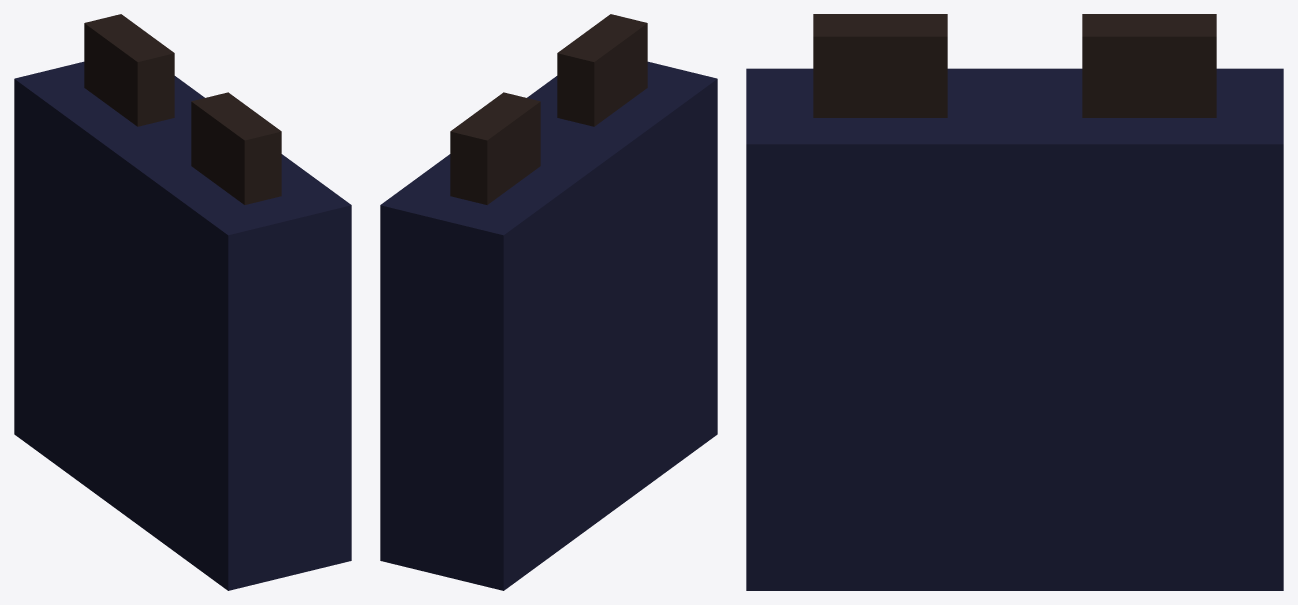
The model's file is listening_station.glb.
3 renders of one model, left to right at view 1: azimuth 30°, elevation 25°; view 2: azimuth 150°, elevation 25°; view 3: azimuth 270°, elevation 25°, orthographic. The views are drawn at different scales.
Visible parts, largest first — view 1: Box1, Box3, Box2; view 2: Box1, Box2, Box3; view 3: Box1, Box2, Box3.
Boxes of the visible parts, x1=… form: Box1: x1=14, y1=61, x2=351, y2=590; Box3: x1=191, y1=92, x2=281, y2=204; Box2: x1=84, y1=14, x2=174, y2=126; Box1: x1=380, y1=61, x2=717, y2=590; Box2: x1=450, y1=92, x2=540, y2=204; Box3: x1=557, y1=14, x2=647, y2=126; Box1: x1=746, y1=68, x2=1283, y2=590; Box2: x1=1082, y1=14, x2=1216, y2=117; Box3: x1=813, y1=14, x2=947, y2=117.
Bounding box in the file's own units: 0.4 × 1.3 × 1.2.
